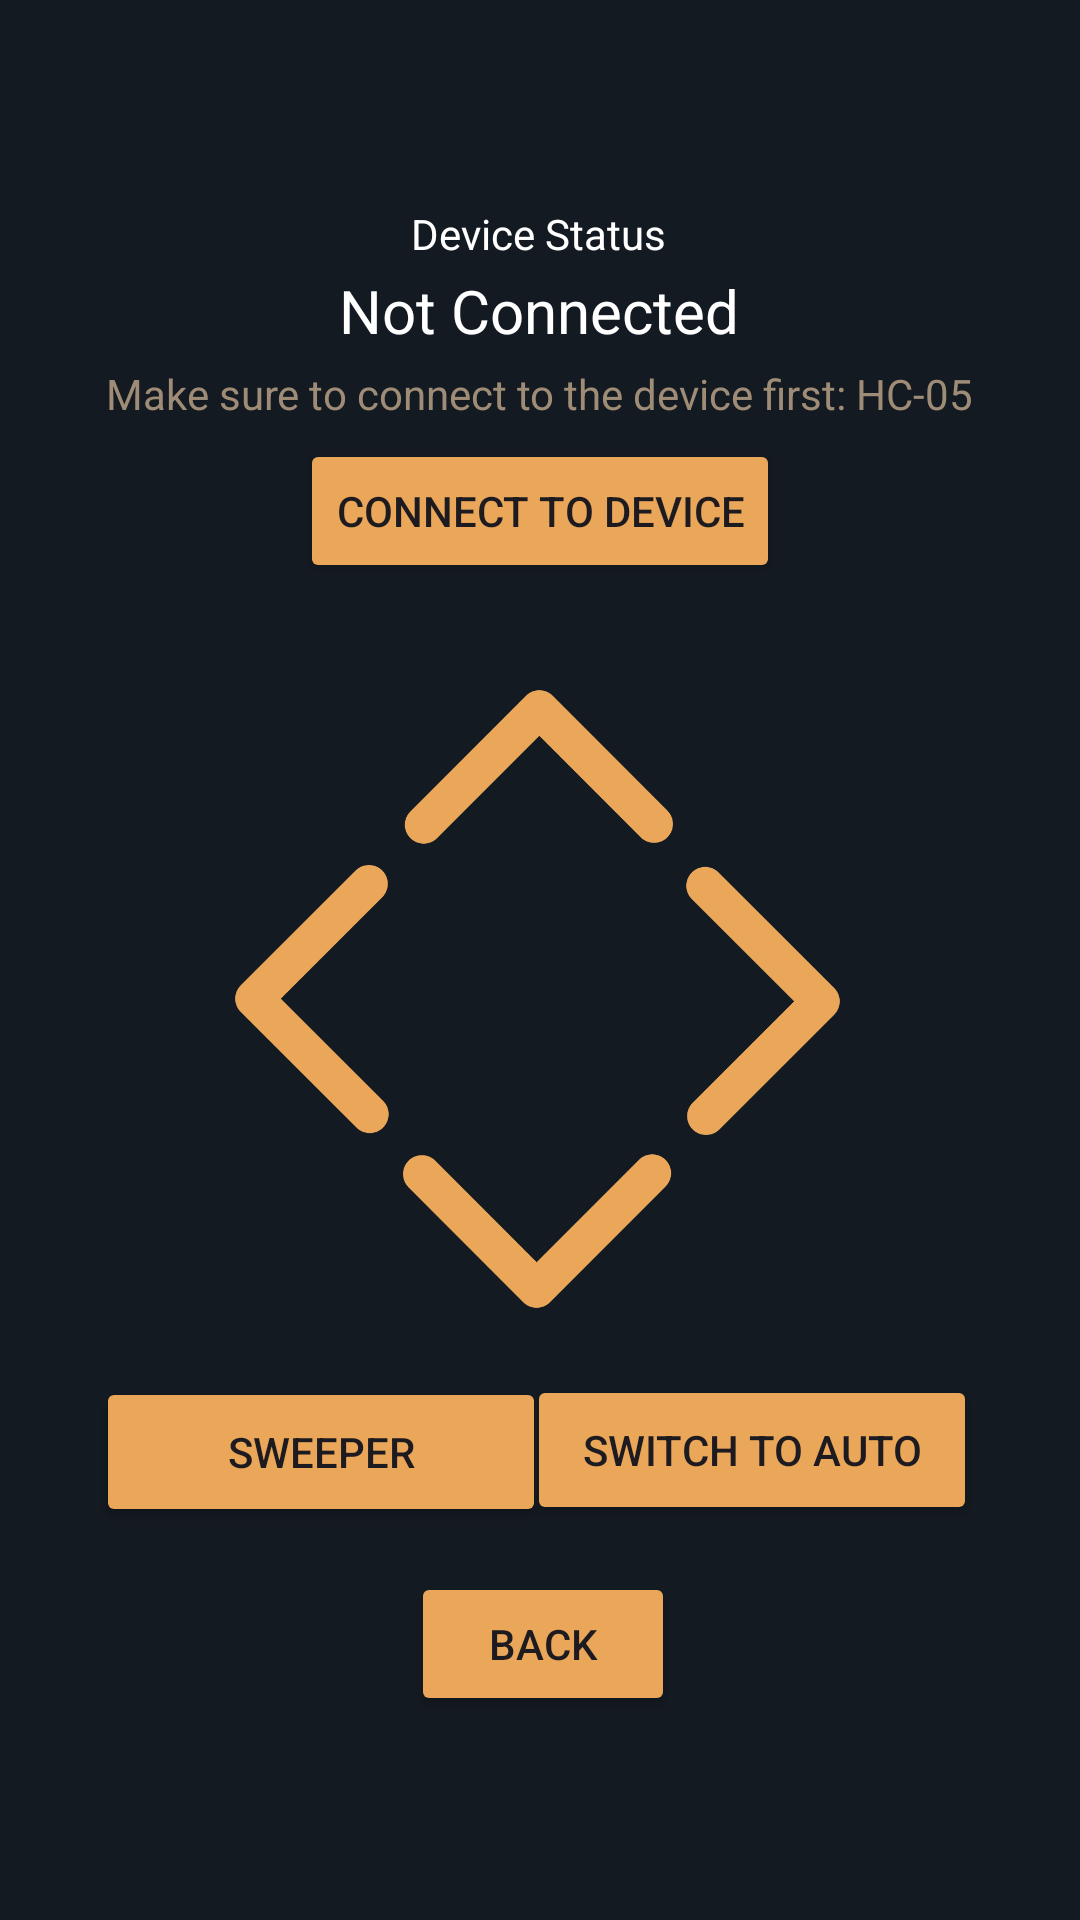

Point at icon controls on the screen. Image size 1080w x 1920h, points as [x,y].
arrow down: [537,1231]
arrow left: [312,999]
arrow right: [763,1000]
arrow up: [538,767]
